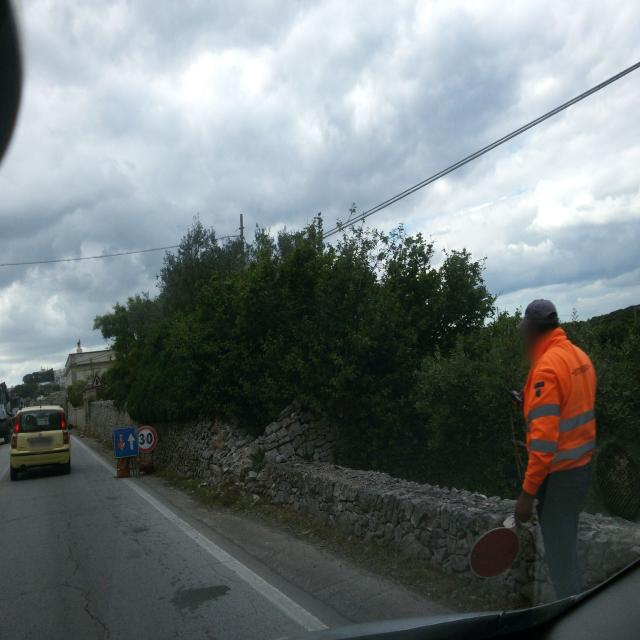car: (9, 404, 72, 480)
